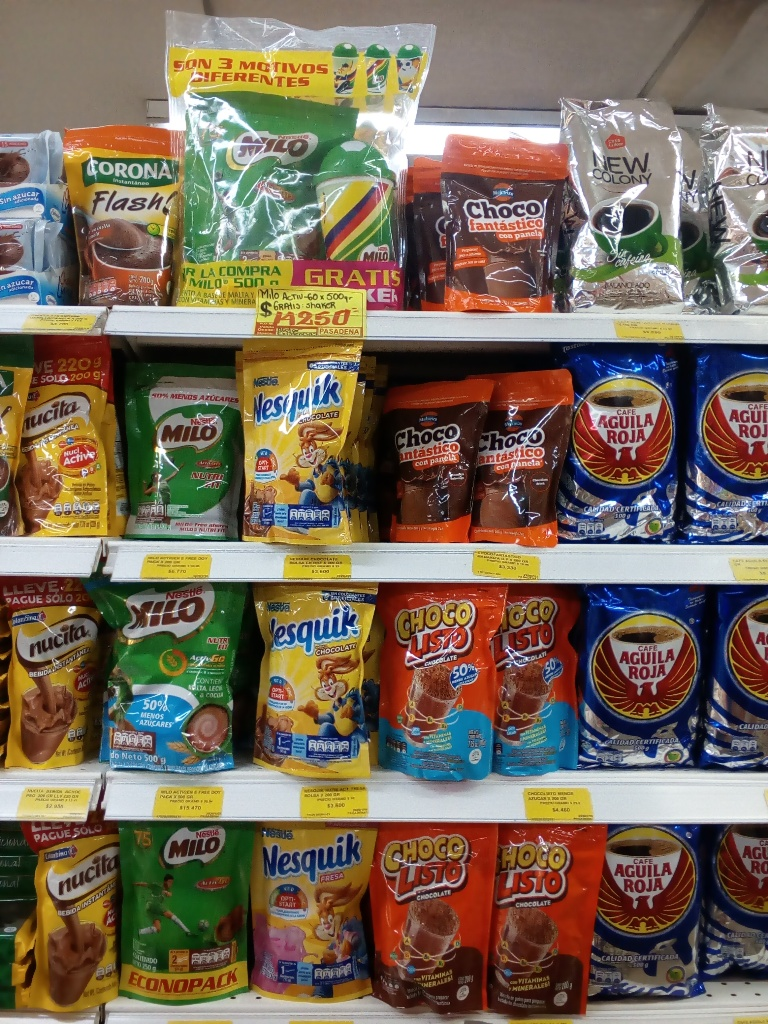COL0170103DYP20000: (367, 824, 503, 1015)
COL0170104DYP20000: (380, 580, 498, 775)
COL0170203DYP25000: (119, 826, 244, 1007)
COL0170203DYP50000: (180, 77, 323, 269)
COL0170205DYP20000: (111, 362, 247, 539)
COL0170205DYP50000: (83, 581, 251, 779)
COL0170303DYP20000: (243, 343, 363, 549)
COL0170305DYP20000: (253, 824, 374, 1002)
